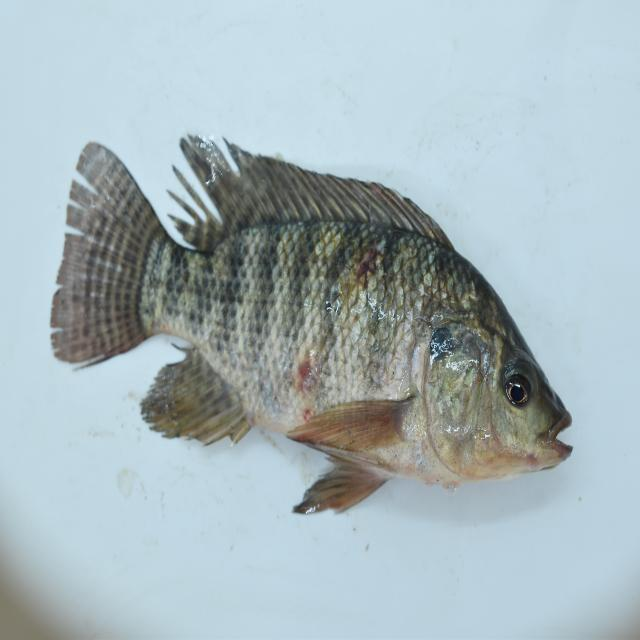Columnaris Disease: (47, 95, 578, 542)
